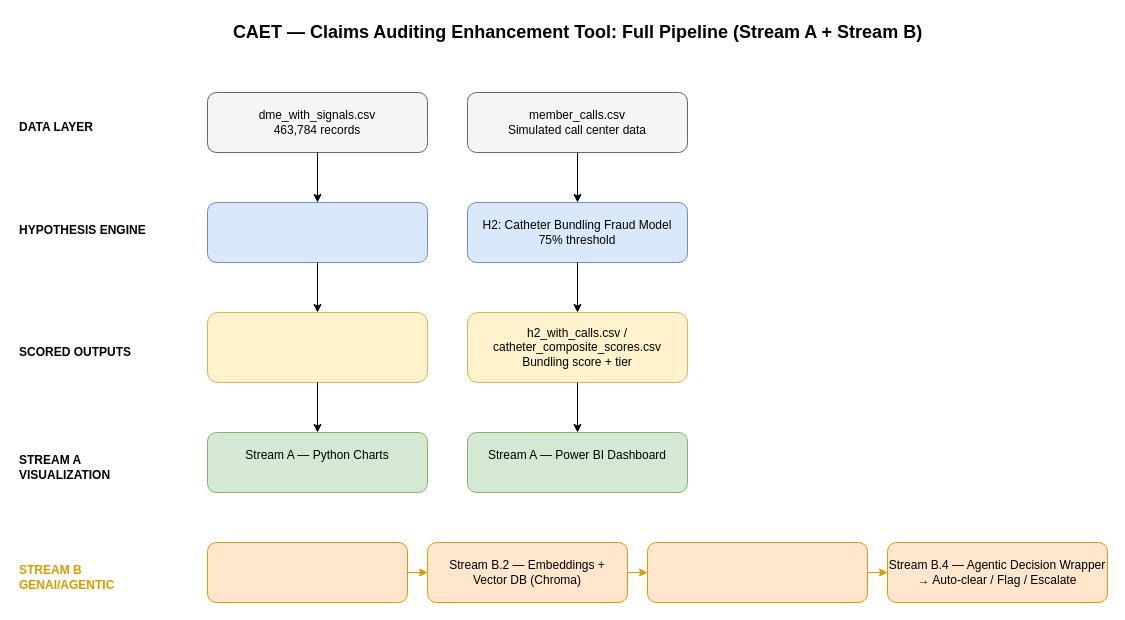
Image size: 1125x620. Some labels were removed from this diagram. Each missing label, with the centre of its shape:
"H1: General DME Fraud Model 70% threshold" belongs at point 317,232.
"h1_with_calls.csv Composite score + tier (LOW/MED/HIGH/CRITICAL)" belongs at point 317,347.
"Stream B.1 — Case Summaries Plain-English per flagged claim" belongs at point 307,572.
"Stream B.3 — RAG Retrieval + LLM Explanation (provider-agnostic API)" belongs at point 757,572.
